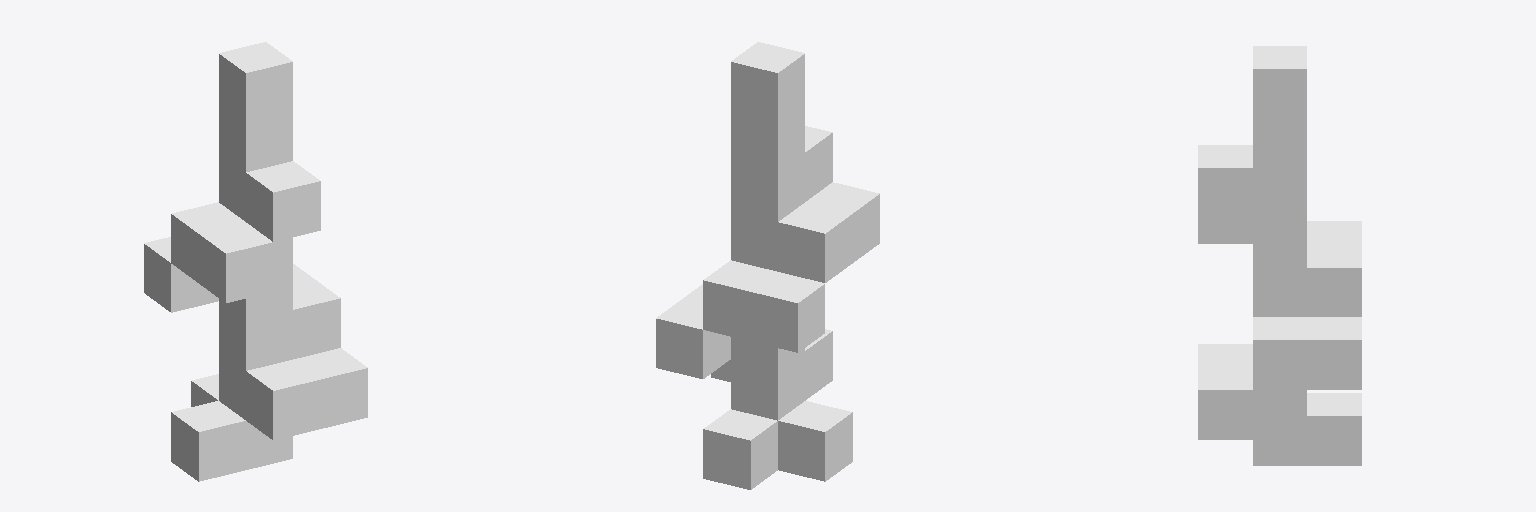
Rendered from farm-27-tomato_growth2.obj.
3 views of the same model, side by side, from view 1: azimuth 30°, elevation 25°; view 2: azimuth 150°, elevation 25°; view 3: azimuth 270°, elevation 25° (orthographic).
Visible parts, largest first — view 1: tomato_growth2; view 2: tomato_growth2; view 3: tomato_growth2.
Boxes of the visible parts, x1=… form: tomato_growth2: x1=144, y1=42, x2=367, y2=481; tomato_growth2: x1=656, y1=42, x2=879, y2=489; tomato_growth2: x1=1198, y1=46, x2=1361, y2=465.
Bounding box in the file's own units: 0.3 × 0.8 × 0.3.